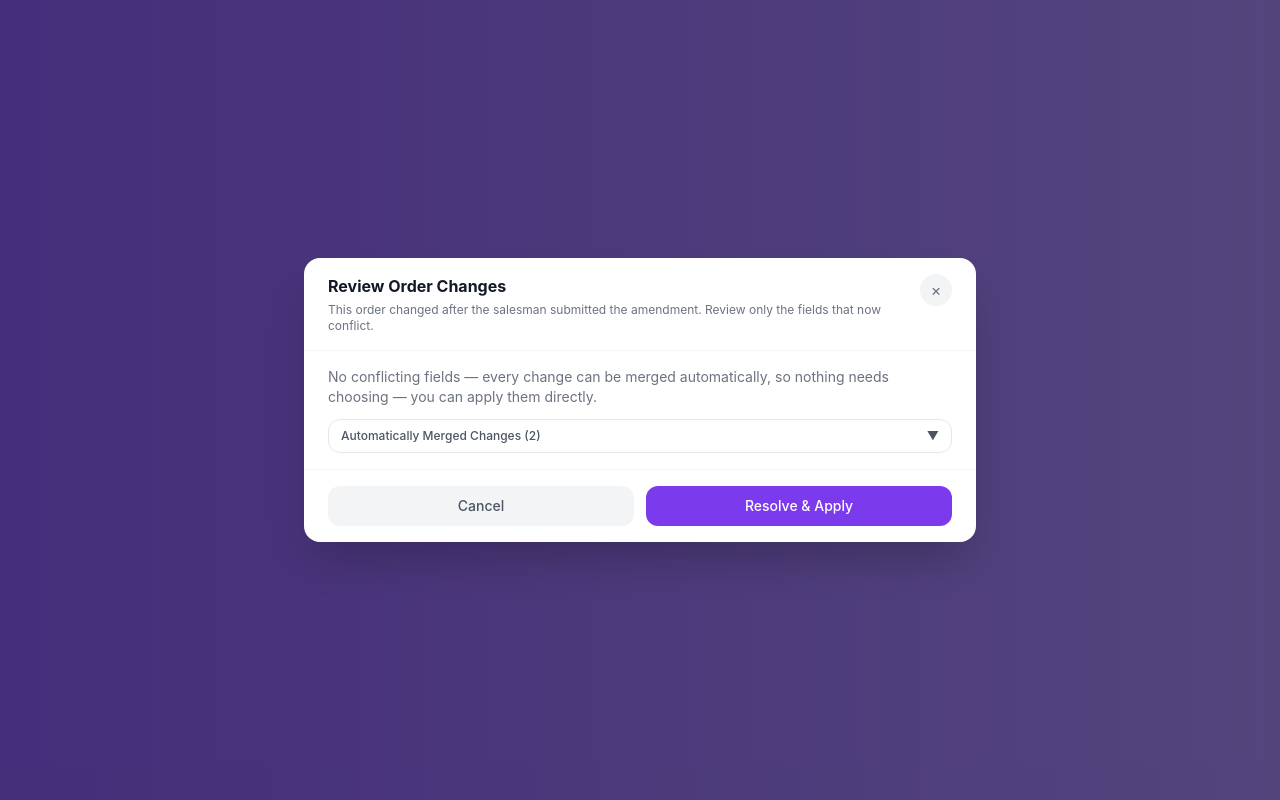
Test case: AmendmentRebaseReview — Resolve & Apply gating › an Active DO appearing after the preview: the explanatory panel replaces the button (the backend guard is not bypassed)
Click the button "Resolve & Apply" at (799, 506), box [646,486,952,526]
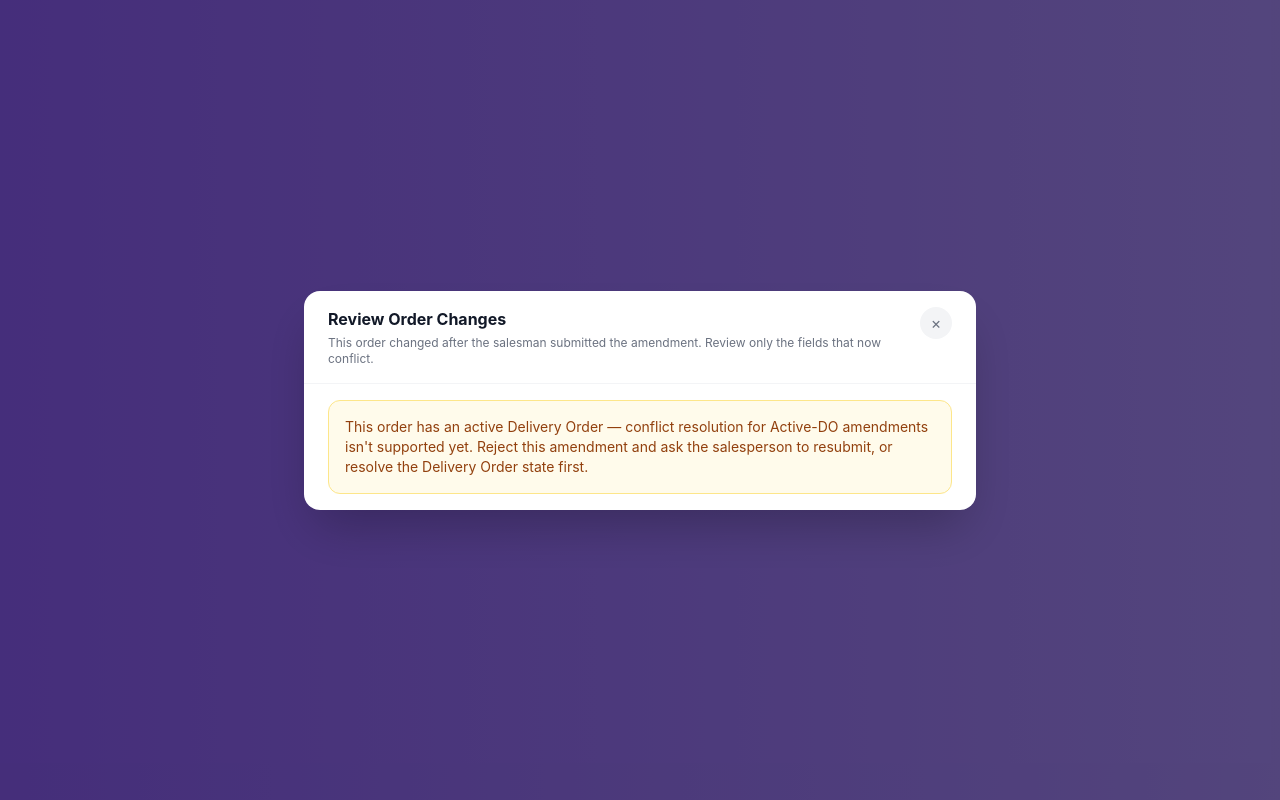
Expected: the text "isn't supported yet" is shown, [345,418,928,474]
